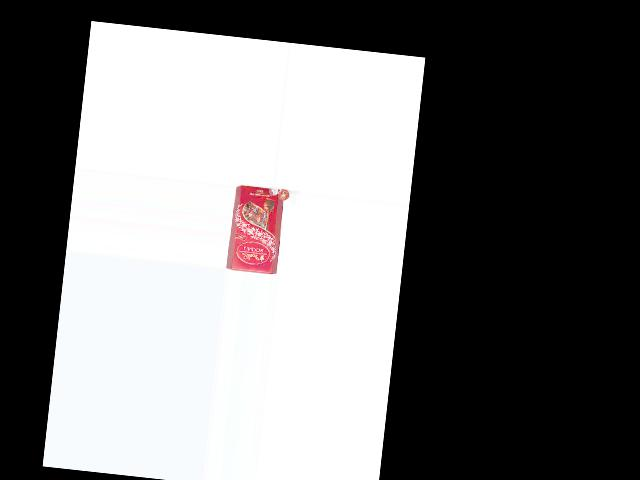chocolate: (227, 184, 290, 275)
